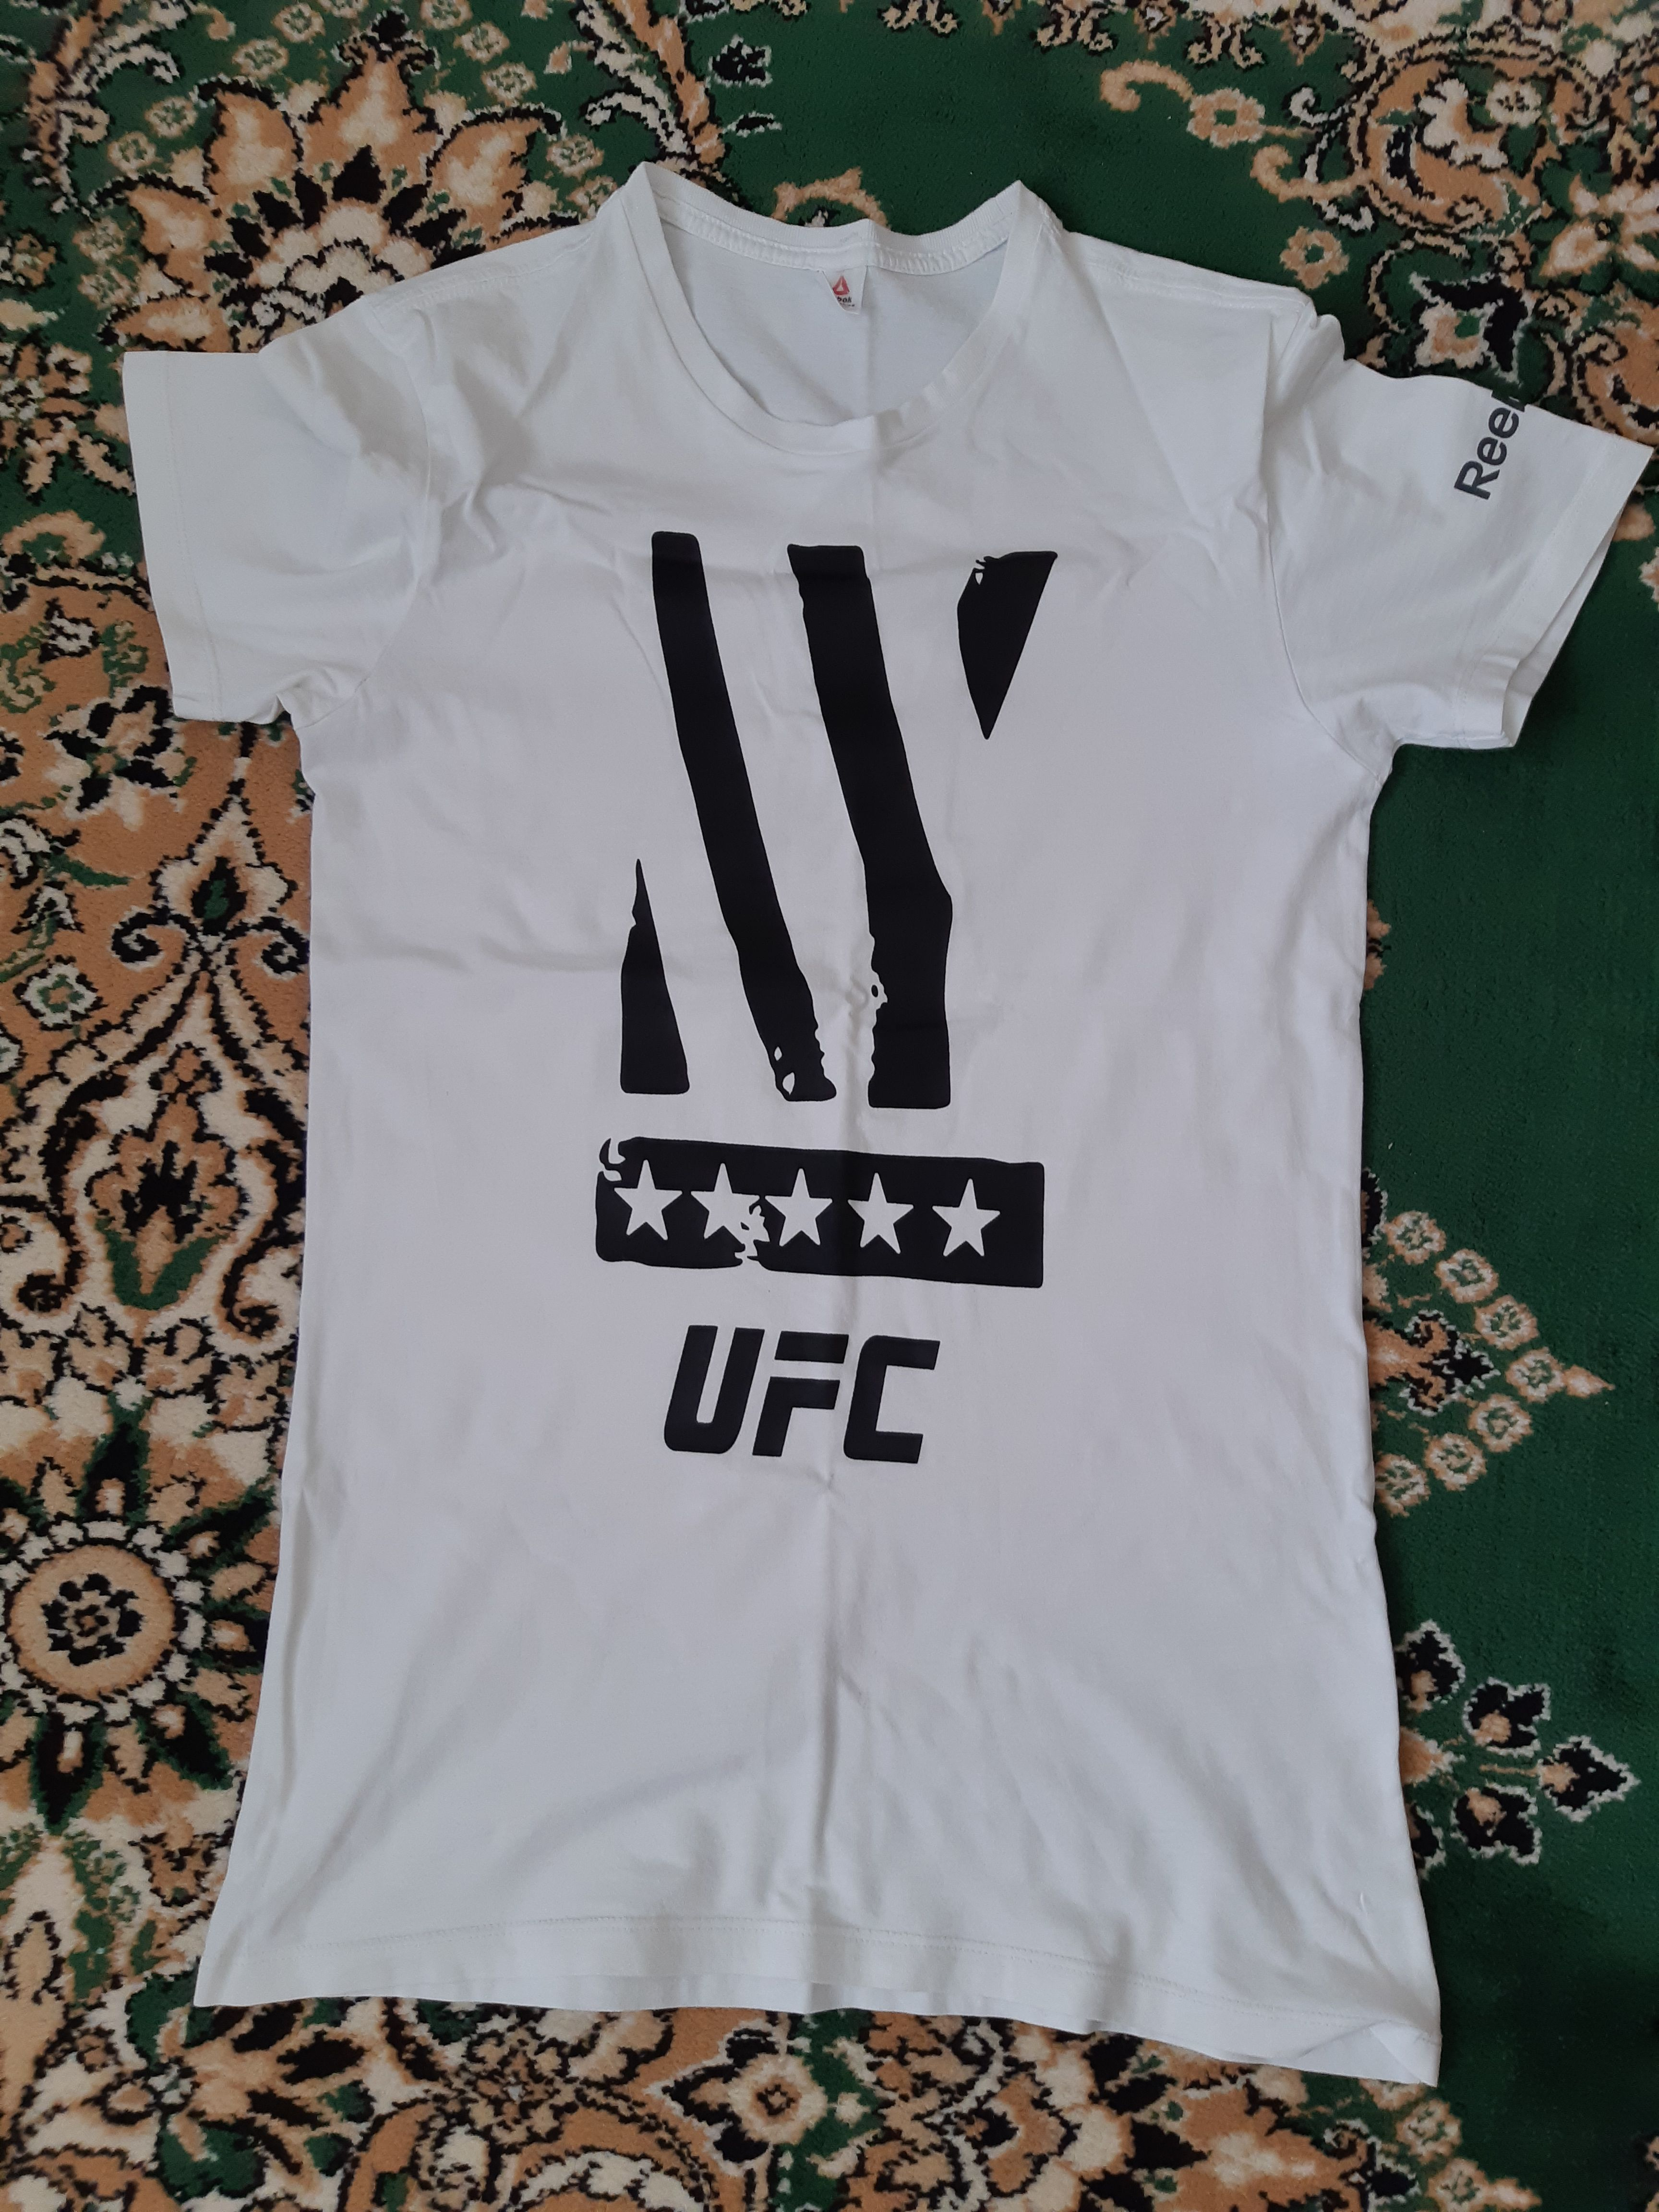clothes: (101, 155, 1659, 2116)
